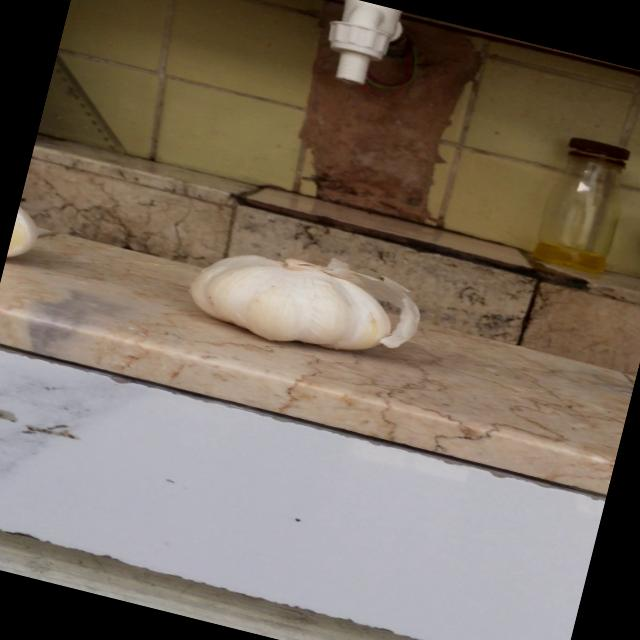bawang: (178, 222, 431, 376)
